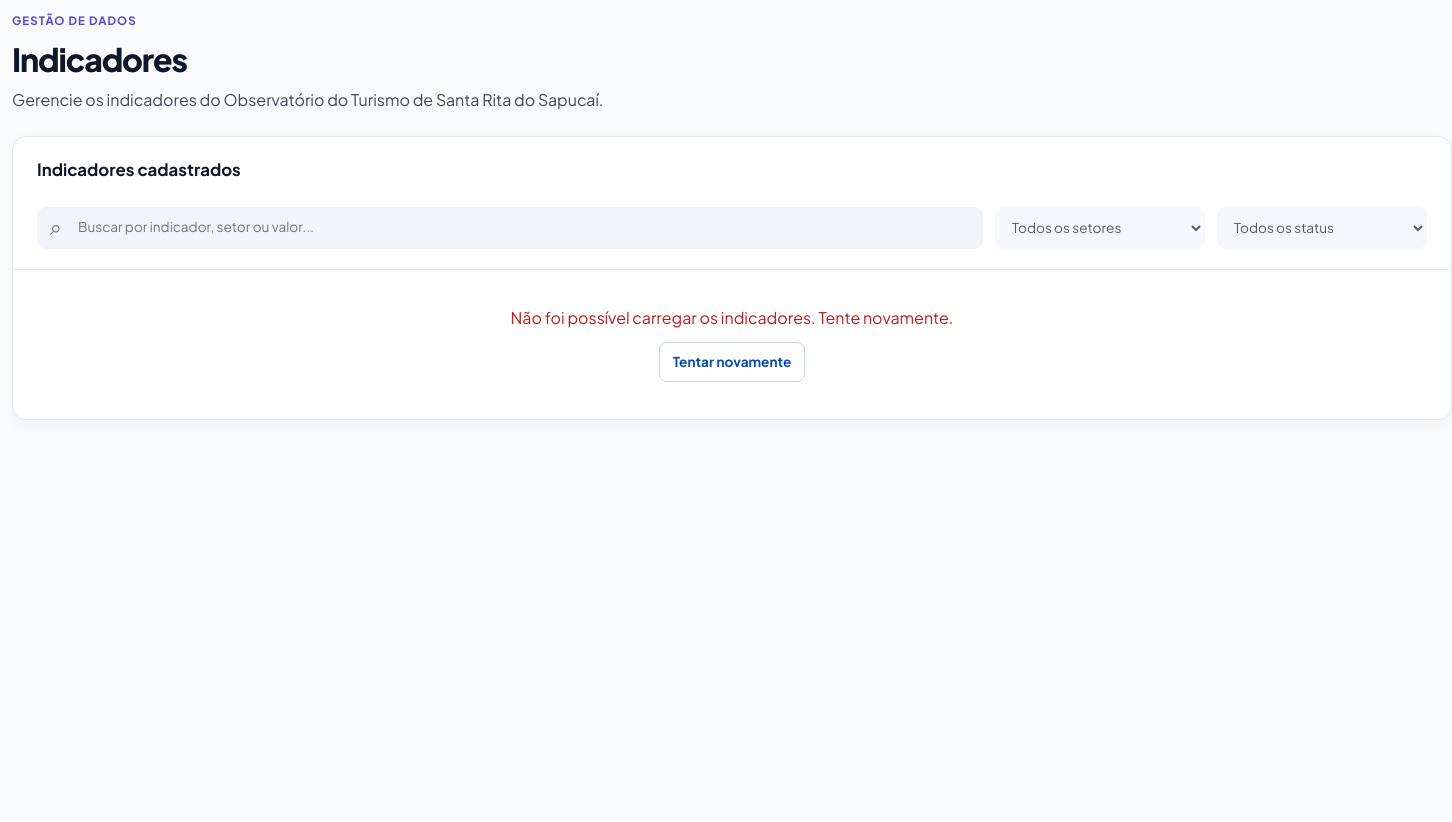
Scenario: AdminPage › mostra erro e permite tentar novamente
Expected: the message shows "Não foi possível carregar os indicadores.", [511,307,953,328]
Click the button "Tentar novamente" at point(732, 362), box [659,342,805,382]
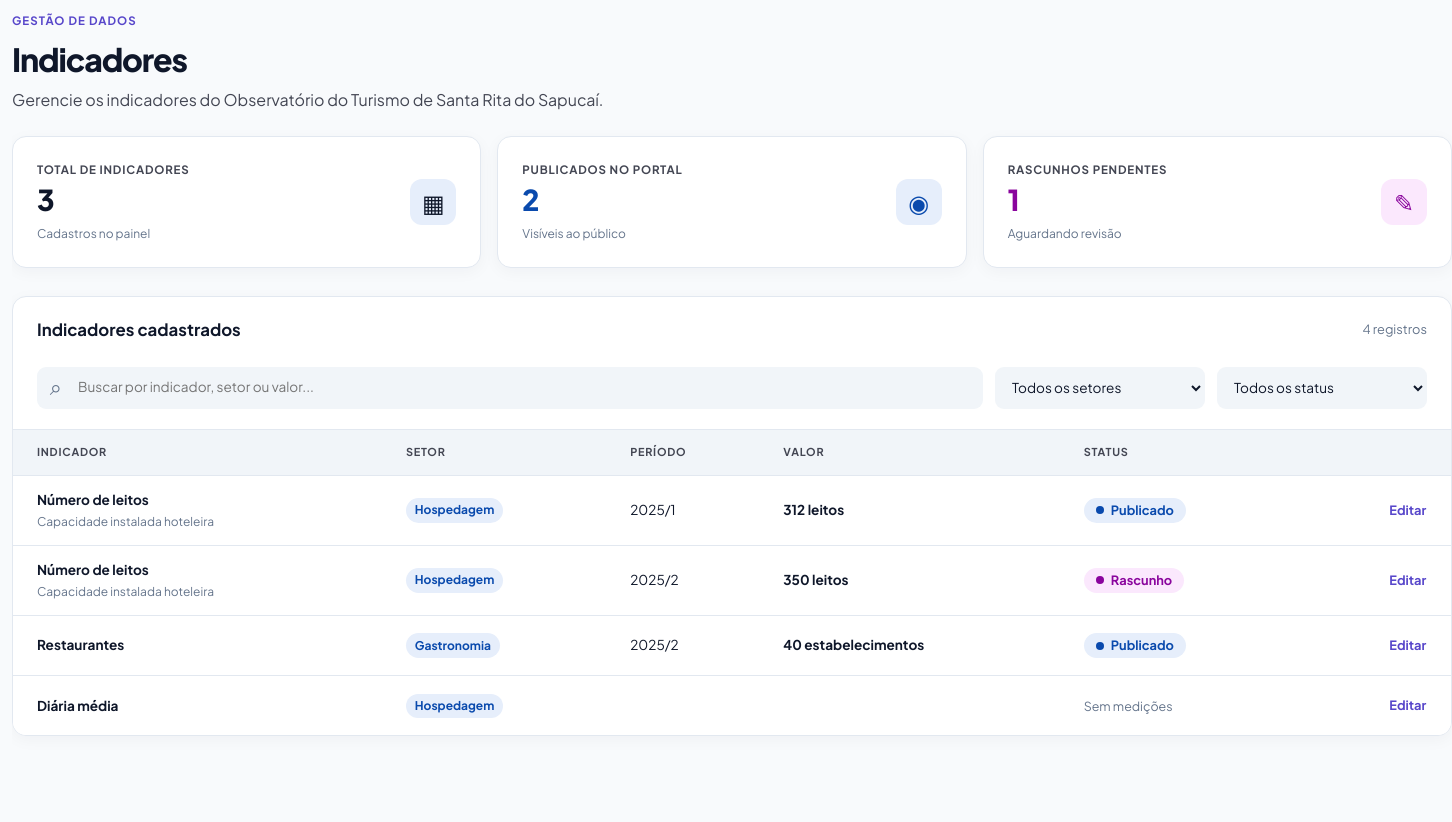
Expected: the table is shown, [13,430,1451,735]
